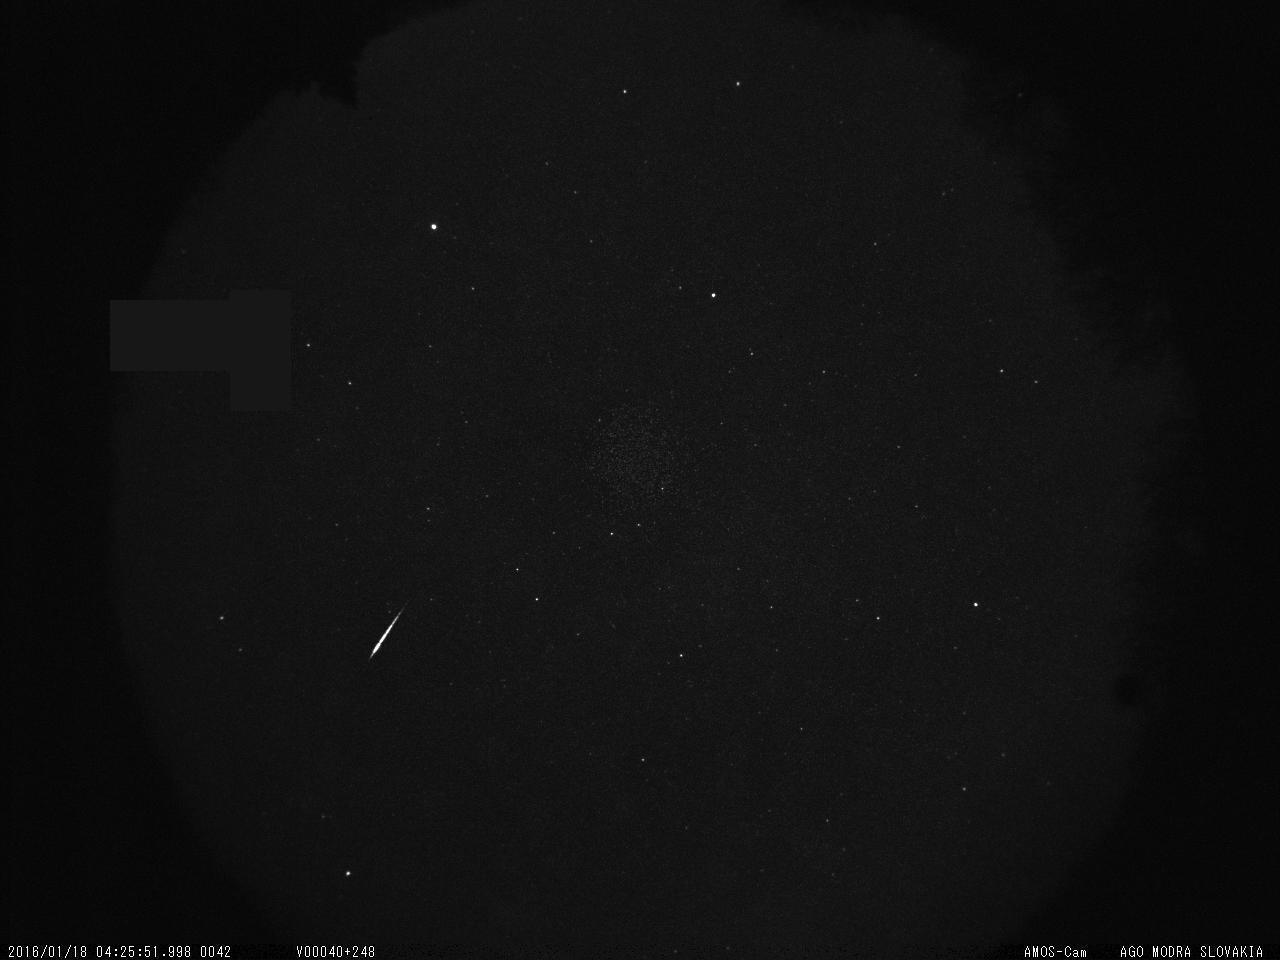Meteor: (362, 599, 412, 673)
